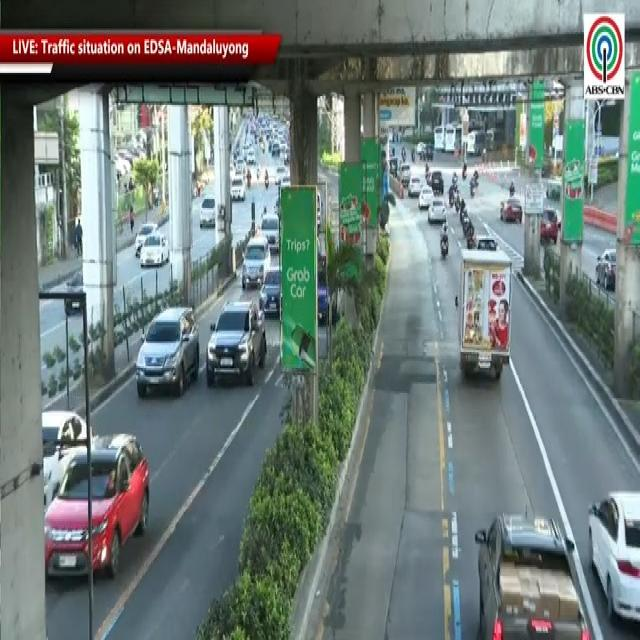car: (57, 434, 157, 586), (474, 510, 582, 640), (584, 487, 640, 635), (35, 400, 86, 523), (145, 304, 207, 398), (203, 304, 266, 388), (241, 235, 268, 293), (142, 235, 171, 272), (262, 269, 285, 311), (198, 192, 217, 229)
motorbike: (439, 217, 449, 270), (464, 219, 476, 257)
truck: (451, 237, 521, 416)
